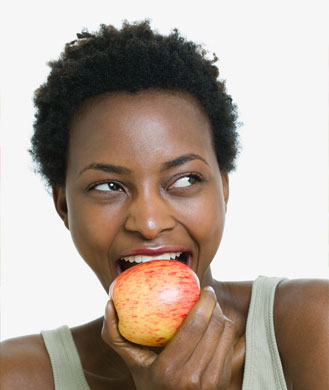eating: (14, 17, 274, 344)
